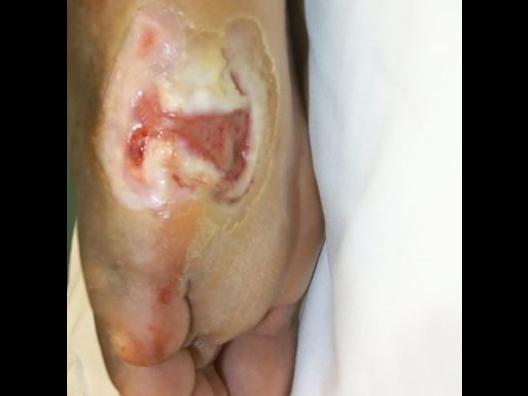Stage3: (83, 0, 278, 255)
